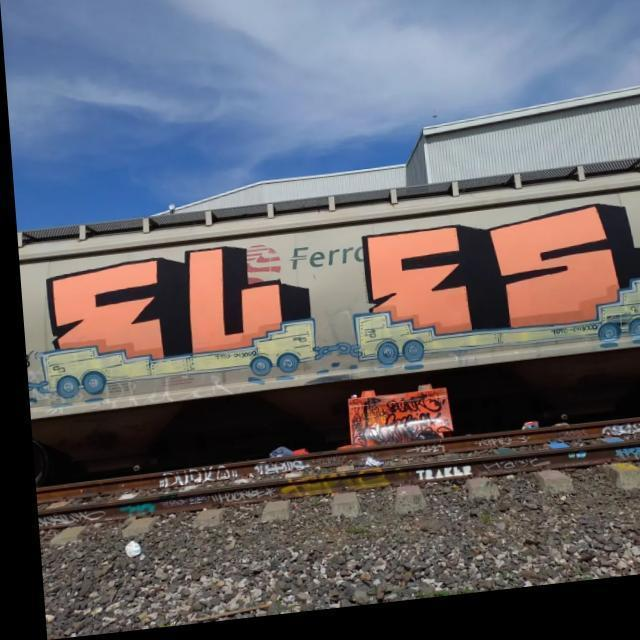nonspitting: (354, 203, 640, 365), (41, 247, 316, 398), (352, 394, 446, 442), (160, 464, 240, 487), (38, 510, 107, 526), (416, 464, 474, 482), (211, 488, 276, 502), (253, 460, 308, 476)
